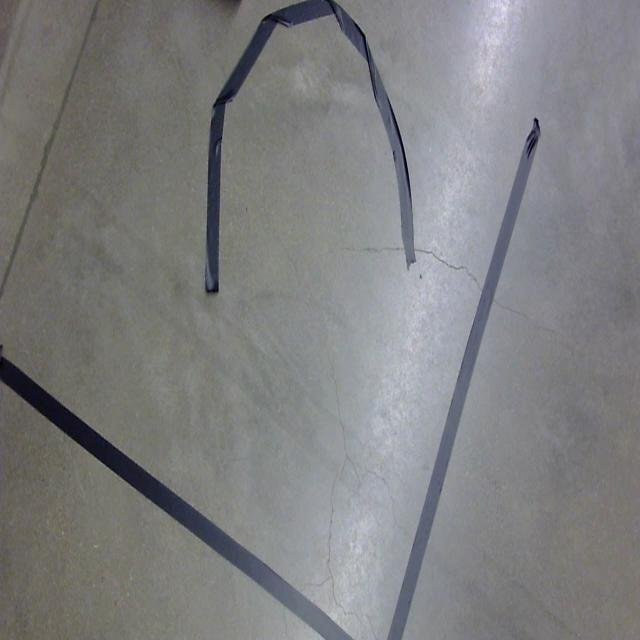tape: (0, 338, 379, 640), (383, 112, 545, 640), (202, 0, 418, 300)
